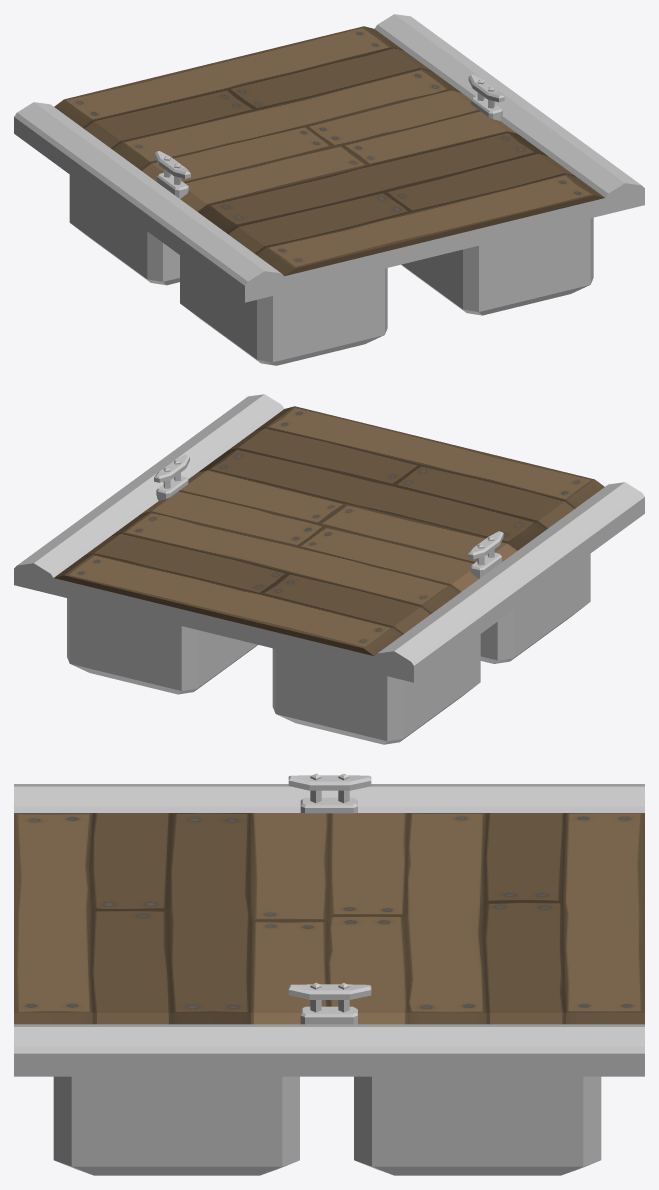
File: SM_Bld_Dock_Platform_01.fbx
The picture shows the model from 3 angles, top to bottom: view 1: azimuth 30°, elevation 25°; view 2: azimuth 150°, elevation 25°; view 3: azimuth 270°, elevation 25°; orthographic projection. The views are drawn at different scales.
Parts seen in each view (by area): view 1: SM_Bld_Dock_Platform_01; view 2: SM_Bld_Dock_Platform_01; view 3: SM_Bld_Dock_Platform_01.
Boxes of the visible parts, bbox=[...] form: SM_Bld_Dock_Platform_01: bbox=[14, 14, 644, 365]; SM_Bld_Dock_Platform_01: bbox=[14, 394, 644, 744]; SM_Bld_Dock_Platform_01: bbox=[14, 773, 644, 1175].
Bounding box in the file's own units: 250 × 83.51 × 250.
